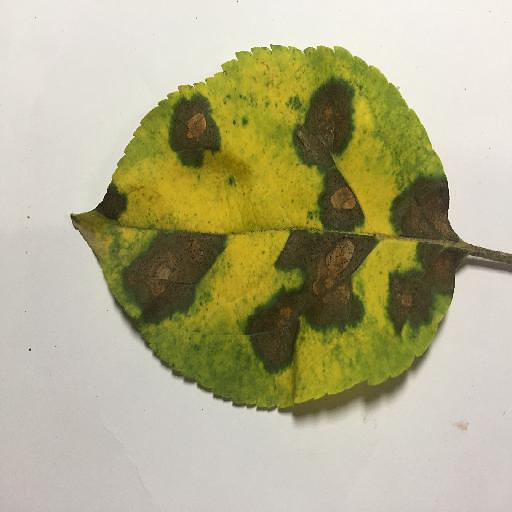Brown_Spot: (244, 239, 370, 369), (288, 84, 385, 235), (112, 221, 225, 319), (379, 245, 459, 334), (391, 164, 463, 237), (160, 94, 223, 164)
